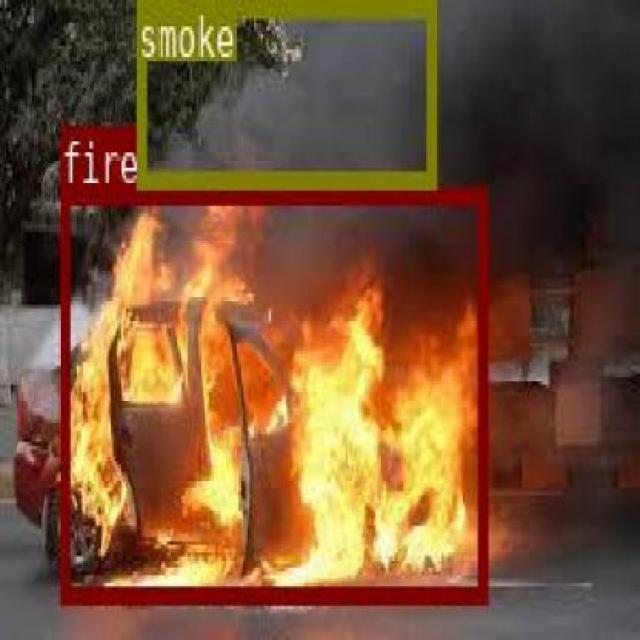CIV_Plane: (59, 186, 486, 602)
Fire: (59, 186, 486, 602)
Smoke: (137, 31, 436, 150)
